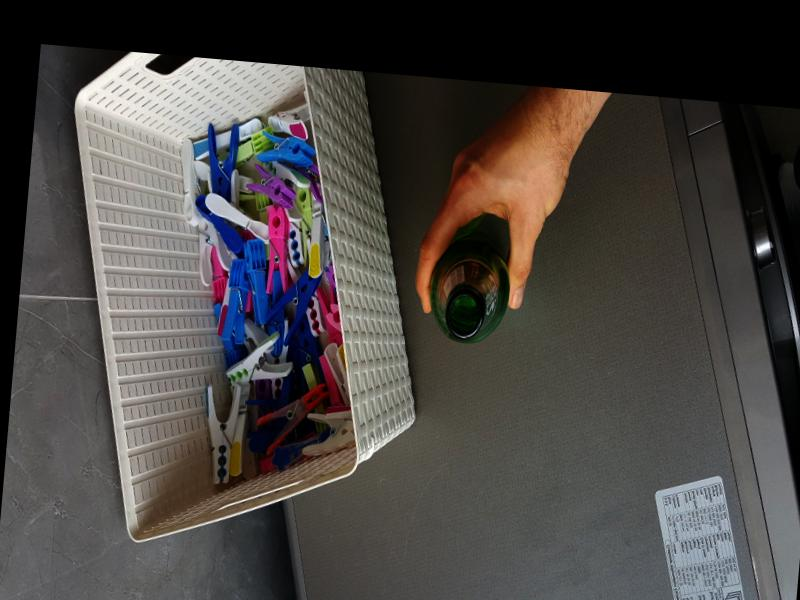Beer: (426, 228, 514, 346)
